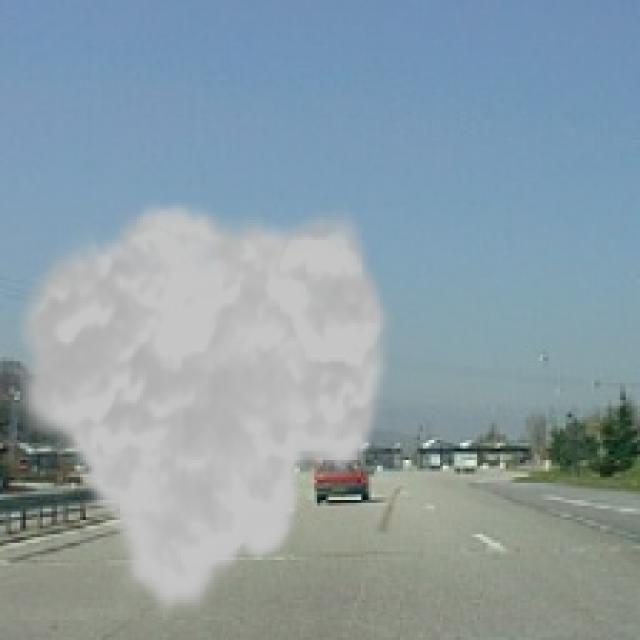smoke: (6, 197, 397, 623)
